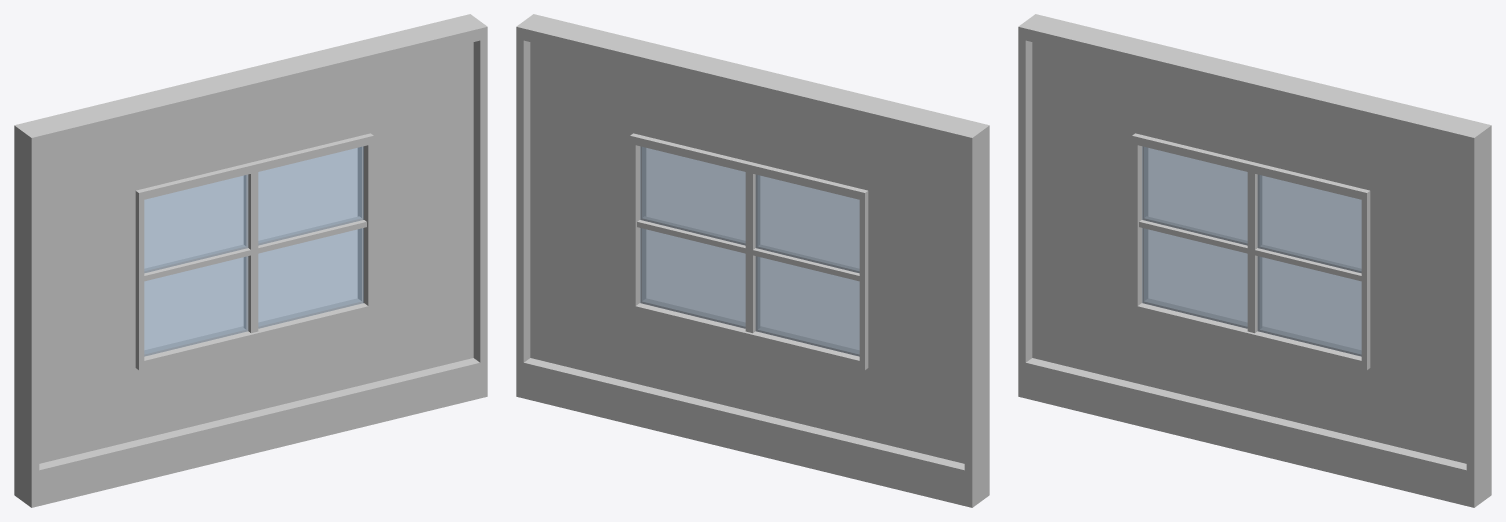
The model's file is WallWindow.fbx.
The picture shows the model from 3 angles, left to right: view 1: azimuth 30°, elevation 25°; view 2: azimuth 150°, elevation 25°; view 3: azimuth 330°, elevation 25°; orthographic projection.
Parts seen in each view (by area): view 1: WallWindow; view 2: WallWindow; view 3: WallWindow.
Part boxes in pixels (x1=…): WallWindow: x1=14, y1=14, x2=487, y2=507; WallWindow: x1=516, y1=14, x2=989, y2=507; WallWindow: x1=1018, y1=14, x2=1491, y2=507.
Bounding box in the file's own units: 400 × 310 × 26.44.
